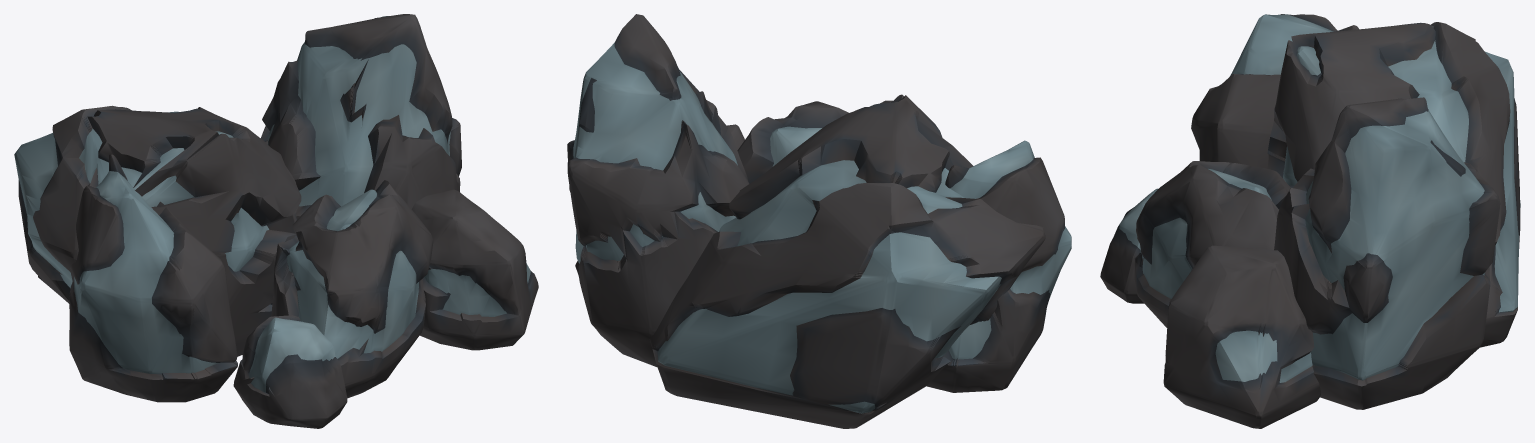
Rendered from corealm_ore_corven.glb.
3 views of the same model, side by side, from view 1: azimuth 30°, elevation 25°; view 2: azimuth 150°, elevation 25°; view 3: azimuth 270°, elevation 25° (orthographic). The views are drawn at different scales.
Visible parts, largest first — view 1: corealm_ore_corven; view 2: corealm_ore_corven; view 3: corealm_ore_corven.
Part boxes in pixels (left/top/right/bottom): corealm_ore_corven: left=14, top=14, right=538, bottom=428; corealm_ore_corven: left=567, top=14, right=1071, bottom=428; corealm_ore_corven: left=1100, top=14, right=1520, bottom=428.
Size of the model in its own units: 1.48 by 0.87 by 1.15.
